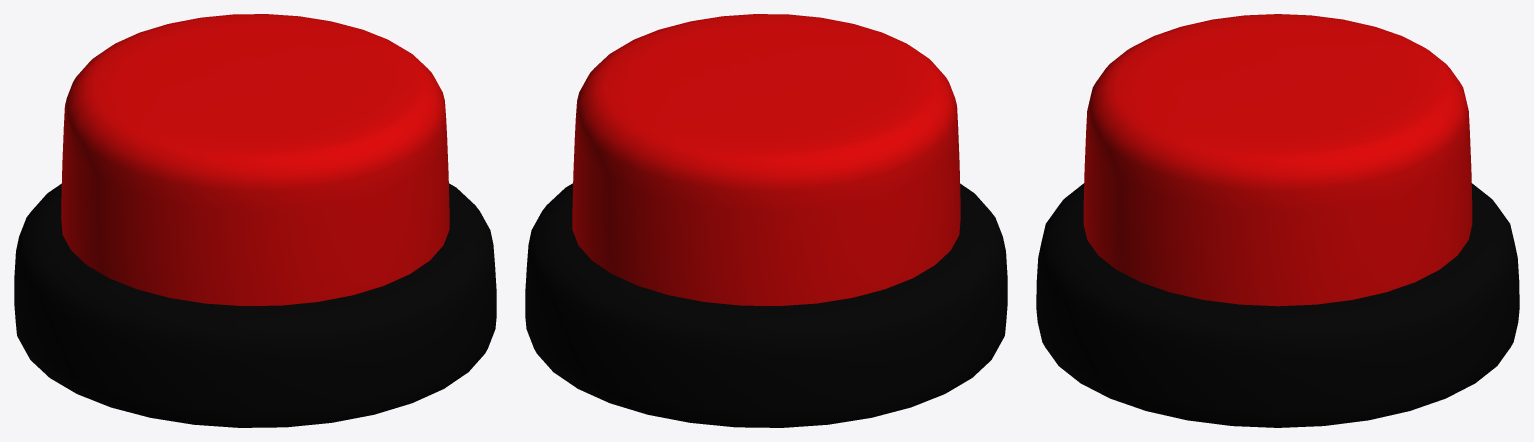
Rendered from button.glb.
3 views of the same model, side by side, from view 1: azimuth 30°, elevation 25°; view 2: azimuth 150°, elevation 25°; view 3: azimuth 270°, elevation 25° (orthographic).
Visible parts, largest first — view 1: button; view 2: button; view 3: button.
Part boxes in pixels (left/top/right/bottom): button: left=14, top=14, right=496, bottom=427; button: left=525, top=14, right=1007, bottom=427; button: left=1036, top=14, right=1519, bottom=427.
Bounding box in the file's own units: 1.94 × 1.11 × 1.94.
